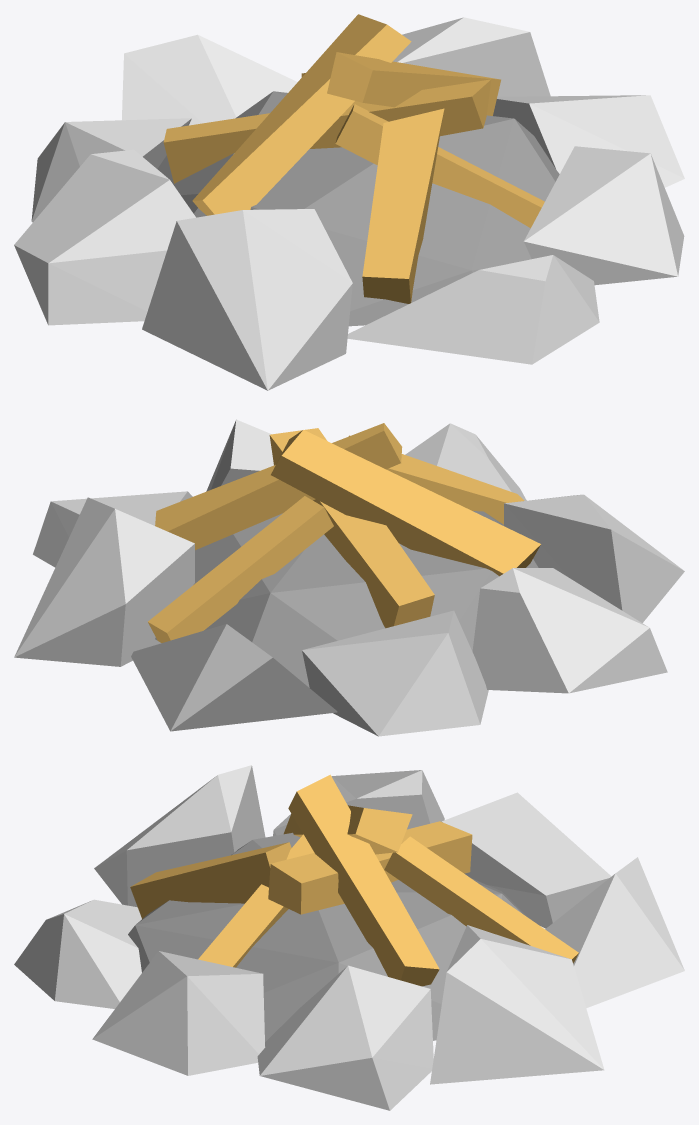
The model's file is fire.gltf.
3 views of the same model, one above another, from view 1: azimuth 30°, elevation 25°; view 2: azimuth 150°, elevation 25°; view 3: azimuth 270°, elevation 25° (orthographic). The views are drawn at different scales.
Parts seen in each view (by area): view 1: 立方体.1_fracturepart4.001; view 2: 立方体.1_fracturepart4.001; view 3: 立方体.1_fracturepart4.001.
Boxes of the visible parts, x1,y1,x2,y2 form: 立方体.1_fracturepart4.001: [14, 14, 684, 390]; 立方体.1_fracturepart4.001: [14, 419, 684, 736]; 立方体.1_fracturepart4.001: [14, 765, 684, 1110].
Bounding box in the file's own units: 0.2028 × 0.0594 × 0.198.
